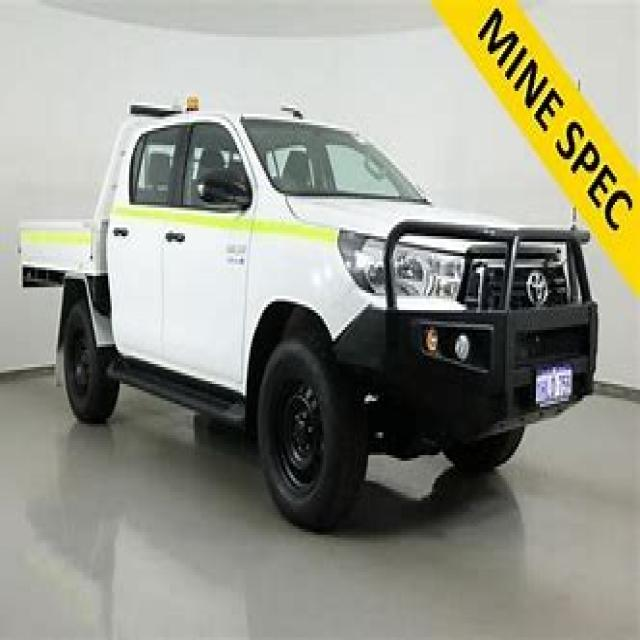light_vehicle: (13, 91, 606, 535)
